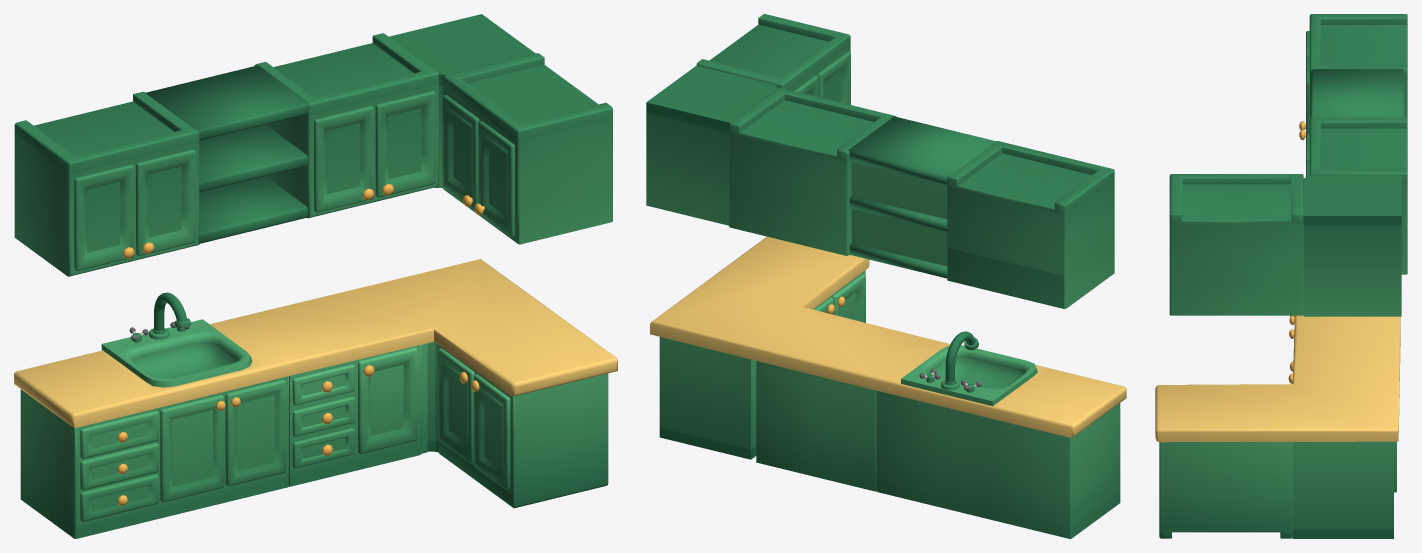
Rendered from Green_Kitchen.fbx.
The picture shows the model from 3 angles, left to right: view 1: azimuth 30°, elevation 25°; view 2: azimuth 150°, elevation 25°; view 3: azimuth 270°, elevation 25°; orthographic projection. The views are drawn at different scales.
Parts seen in each view (by area): view 1: Stand, Cabinet01, UpCabinet, UpCabinet03, Upcabinet02, Cabinet03, CabinetMiddle, Cabinet02, Cabinet04.001, Cabinet04; view 2: Stand, Cabinet01, UpCabinet, Upcabinet02, CabinetMiddle, Cabinet04.001, Cabinet02, Cabinet04, UpCabinet03, Cabinet03; view 3: Stand, UpCabinet03, Cabinet04.001, Cabinet03, Cabinet04, Upcabinet02, UpCabinet, CabinetMiddle.
Boxes of the visible parts, x1,y1,x2,y2 form: Stand: (14,259,617,427); Cabinet01: (20,376,288,538); UpCabinet: (14,91,199,276); UpCabinet03: (442,53,612,244); Upcabinet02: (254,33,438,218); Cabinet03: (437,344,608,508); CabinetMiddle: (145,65,308,243); Cabinet02: (289,343,427,486); Cabinet04.001: (389,14,535,187); Cabinet04: (427,342,437,452); Stand: (650,236,1126,437); Cabinet01: (876,390,1120,538); UpCabinet: (947,141,1114,308); Upcabinet02: (729,87,896,255); CabinetMiddle: (848,116,996,278); Cabinet04.001: (646,65,777,225); Cabinet02: (756,361,876,491); Cabinet04: (659,337,756,459); UpCabinet03: (696,14,850,104); Cabinet03: (813,270,865,322); Stand: (1155,315,1400,442); UpCabinet03: (1169,174,1303,315); Cabinet04.001: (1303,175,1401,316); Cabinet03: (1159,442,1292,538); Cabinet04: (1292,441,1393,538); Upcabinet02: (1306,117,1407,274); UpCabinet: (1299,14,1407,139); CabinetMiddle: (1311,69,1403,117).
Size of the model in its own units: 435 by 329 by 228.
